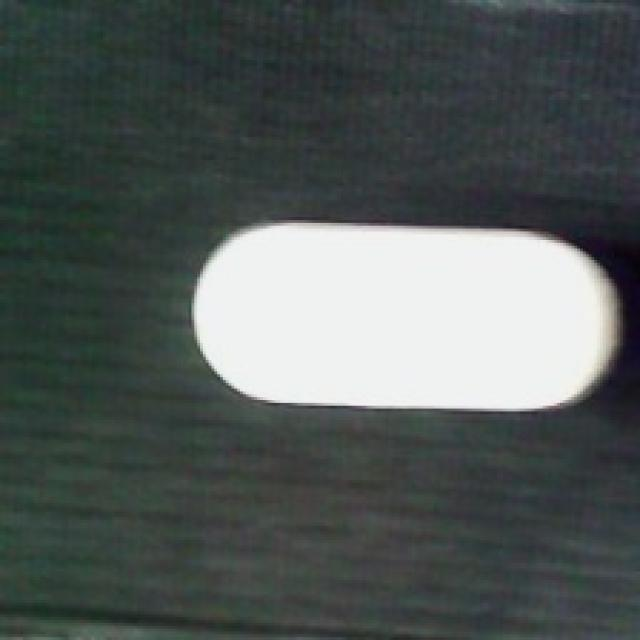no-defect: (188, 220, 623, 420)
